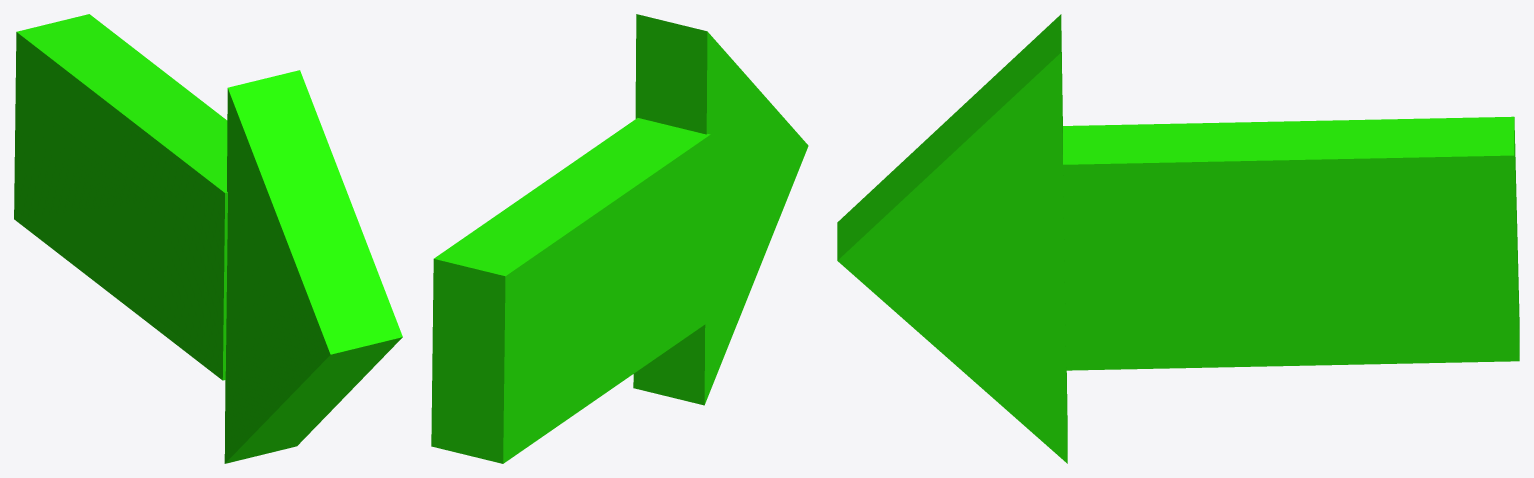
File: arrow.obj
3 renders of one model, left to right at view 1: azimuth 30°, elevation 25°; view 2: azimuth 150°, elevation 25°; view 3: azimuth 270°, elevation 25°, orthographic. The views are drawn at different scales.
Visible parts, largest first — view 1: Box, Box1; view 2: Box, Box1; view 3: Box, Box1.
Boxes of the visible parts, left/top/right/bottom form: Box: left=14, top=14, right=227, bottom=380; Box1: left=224, top=70, right=402, bottom=463; Box: left=431, top=118, right=710, bottom=463; Box1: left=633, top=14, right=808, bottom=405; Box: left=1063, top=116, right=1519, bottom=370; Box1: left=837, top=14, right=1067, bottom=463.
Bounding box in the file's own units: 0.2081 × 0.9999 × 1.5.
